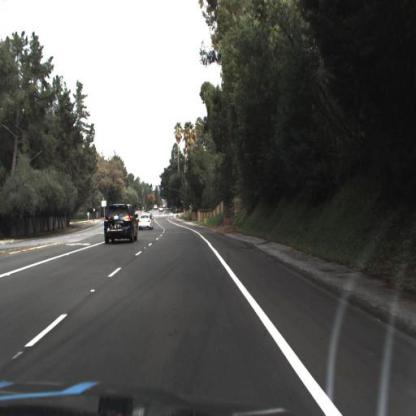car: (103, 203, 138, 247), (140, 213, 154, 229)
